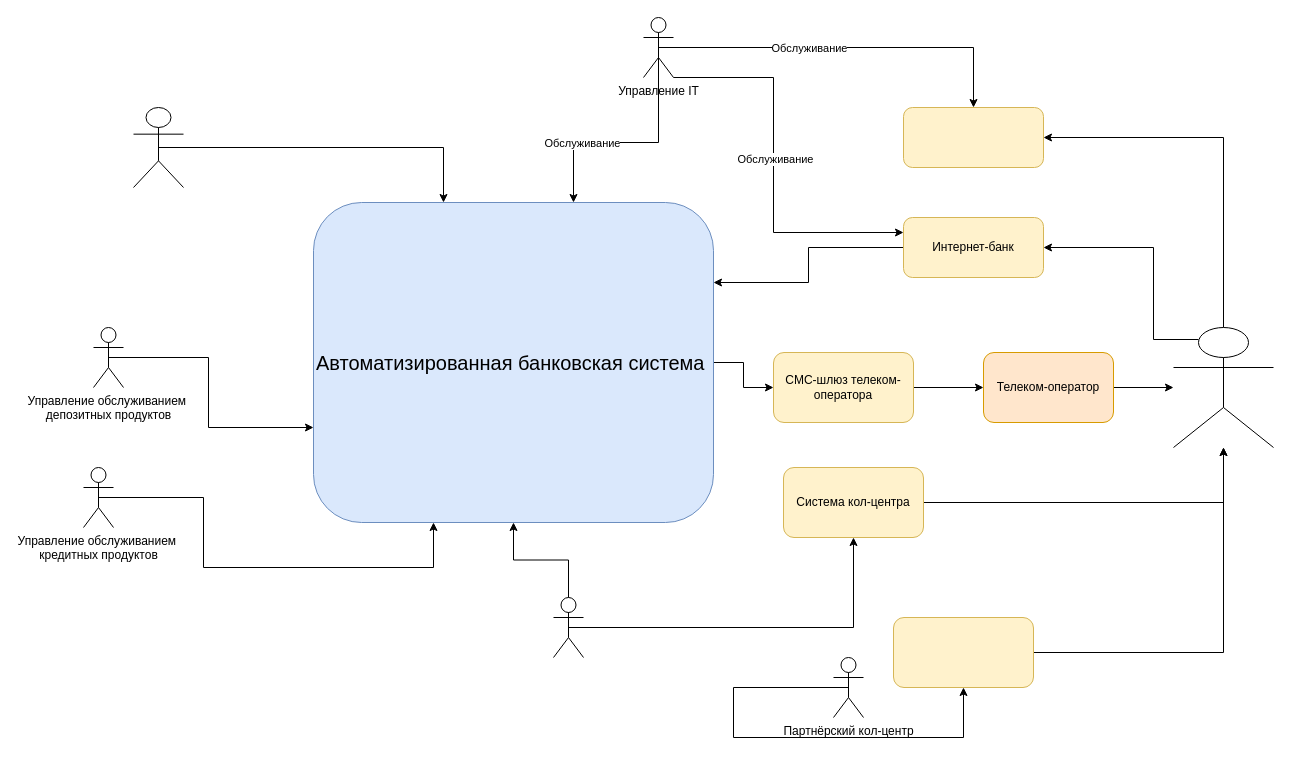
This 1291x763 diagram has some shape labels left out. Each missing label, with the centre of its shape:
Клиенты: point (1223, 387)
Кол-центр банка «Стандарт»: point (568, 627)
Сайт и интернет-банк: point (973, 137)
Система партнерского кол-центра: point (963, 652)
Управление обслуживанием в сети отделений: point (158, 147)
